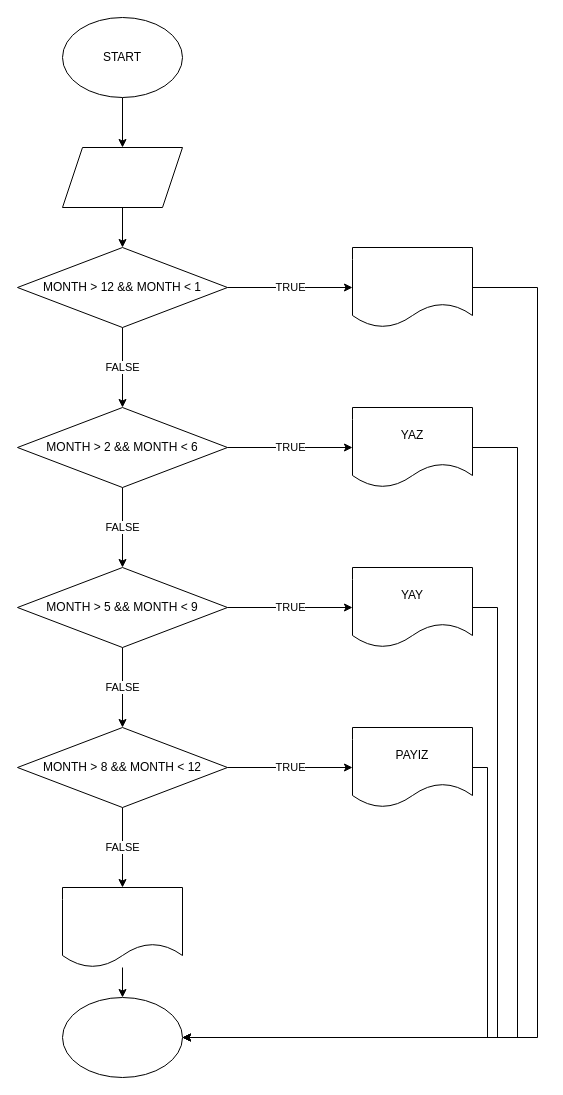
Image size: 563x1095. Some labels were removed from this diagram. The box of each missing label's shape, as (x1, y1, x2, y2) in pixels:
END: (62, 996, 182, 1078)
MONTH: (62, 146, 182, 208)
Mumkun deyil: (352, 246, 472, 328)
QIS: (62, 886, 182, 968)
